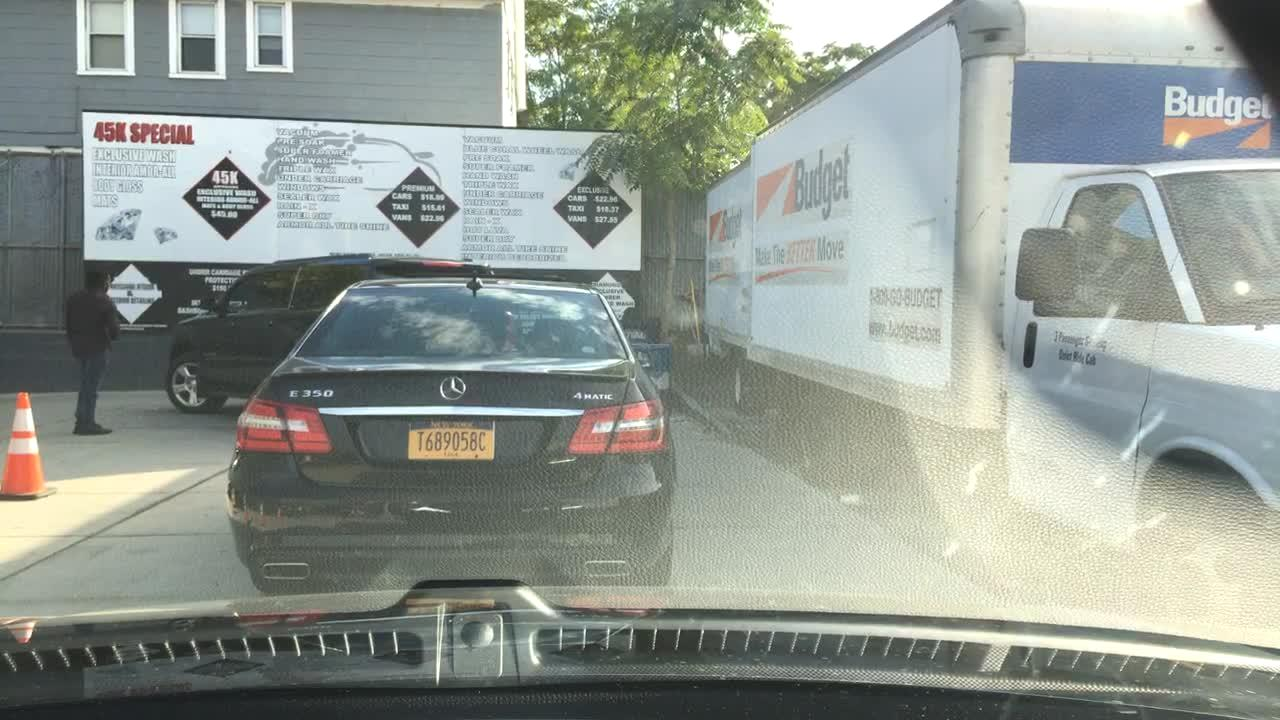Mercedes: (428, 358, 483, 412)
